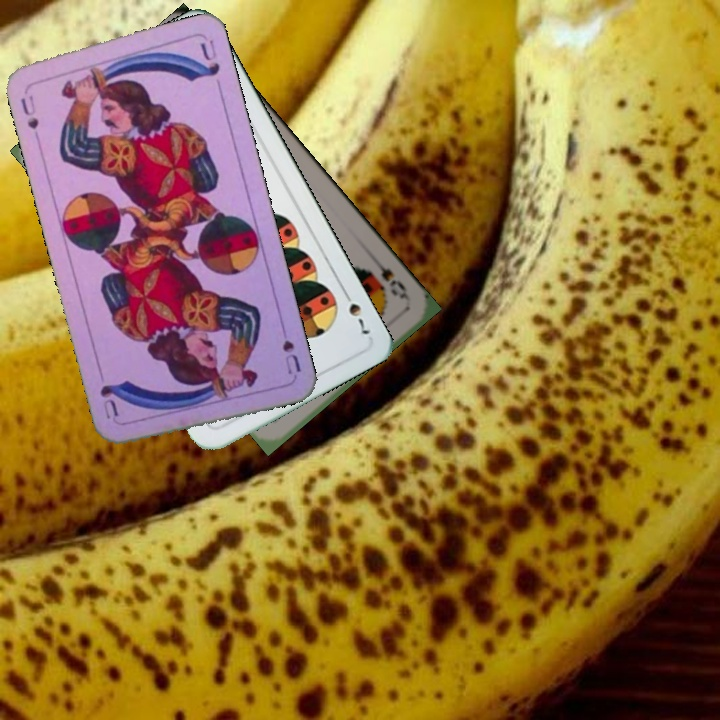S7: (338, 285, 372, 338)
SO: (369, 254, 412, 303)
SU: (276, 318, 304, 378), (16, 91, 41, 132)
